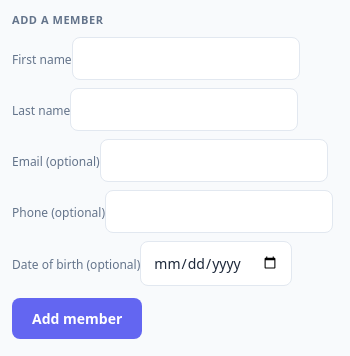
AddMemberForm › shows the attestation box when a contact is entered, and hides the date-of-birth field
The width and height of the screenshot is (350, 356).
Expected: the field labelled "adult" is not shown
Expected: the date field labelled "Date of birth (optional)" is shown, [140,240,292,286]
Type "a@b.com" into the field labelled "Email (optional)" at (214,160), box [100,138,328,182]
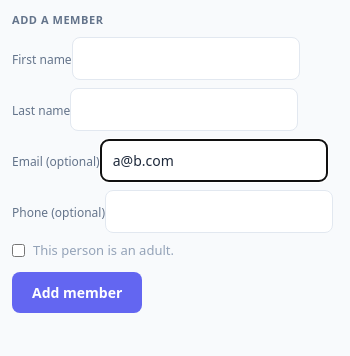
Expected: the checkbox labelled "This person is an adult." is shown, [12,244,25,257]
Expected: the label labelled "Date of birth" is gone
